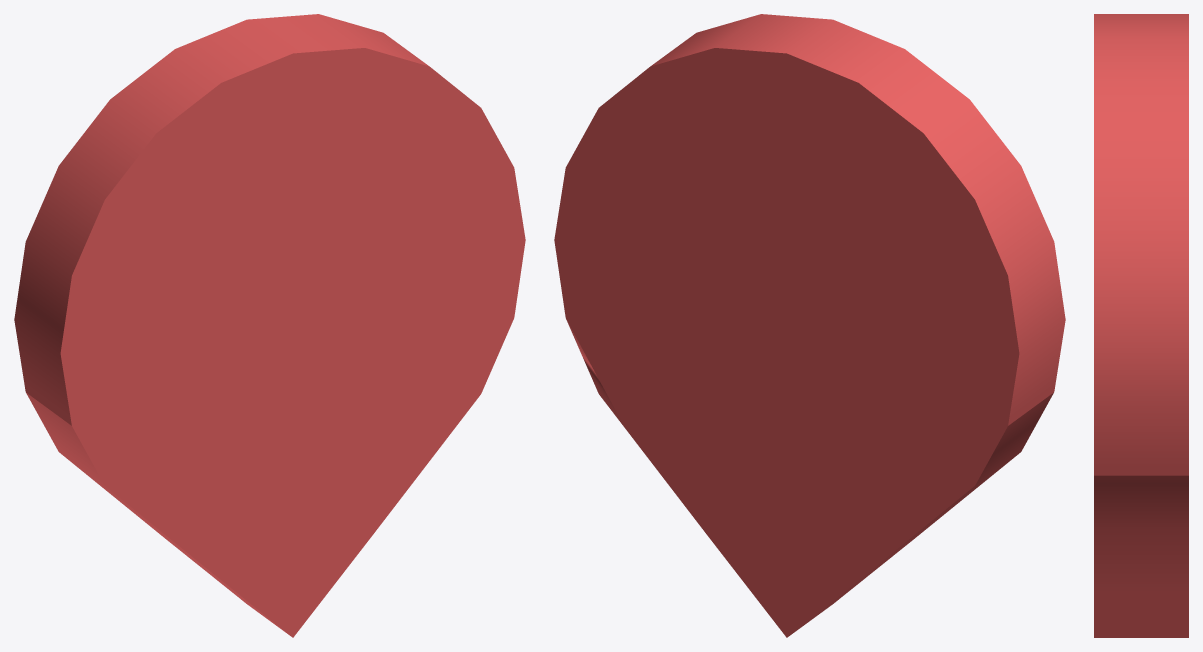
The model's file is pin3d.fbx.
3 views of the same model, side by side, from view 1: azimuth 30°, elevation 25°; view 2: azimuth 150°, elevation 25°; view 3: azimuth 270°, elevation 25° (orthographic). The views are drawn at different scales.
Visible parts, largest first — view 1: pasted__polySurface3; view 2: pasted__polySurface3; view 3: pasted__polySurface3.
Part boxes in pixels (x1,y1,x2,y2): pasted__polySurface3: [14, 14, 525, 637]; pasted__polySurface3: [554, 14, 1065, 637]; pasted__polySurface3: [1094, 14, 1188, 637].
Bounding box in the file's own units: 3.81 × 4.57 × 0.6556.
